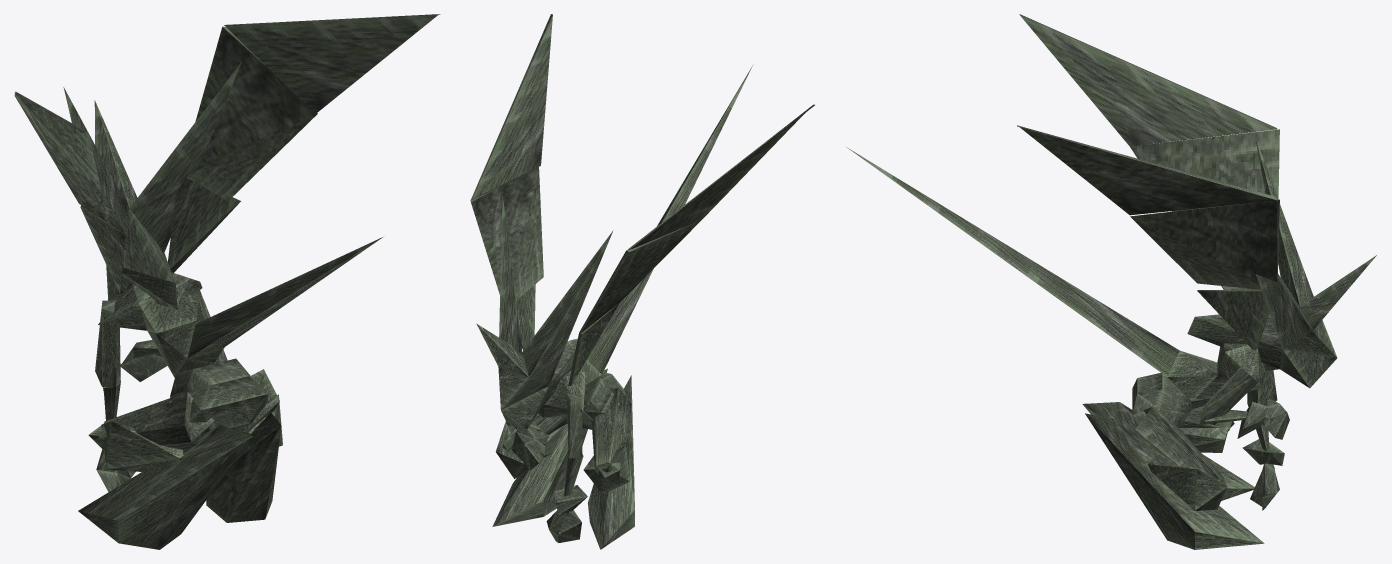
3 renders of one model, left to right at view 1: azimuth 30°, elevation 25°; view 2: azimuth 150°, elevation 25°; view 3: azimuth 270°, elevation 25°, orthographic. The views are drawn at different scales.
Parts seen in each view (by area): view 1: prim100-srwingtop; view 2: prim100-srwingtop; view 3: prim100-srwingtop.
Part boxes in pixels (x1,y1,x2,y2): prim100-srwingtop: [14, 14, 440, 549]; prim100-srwingtop: [470, 14, 814, 549]; prim100-srwingtop: [846, 14, 1376, 549].
Bounding box in the file's own units: 132 × 197 × 213.
1 material, 1 textured.
